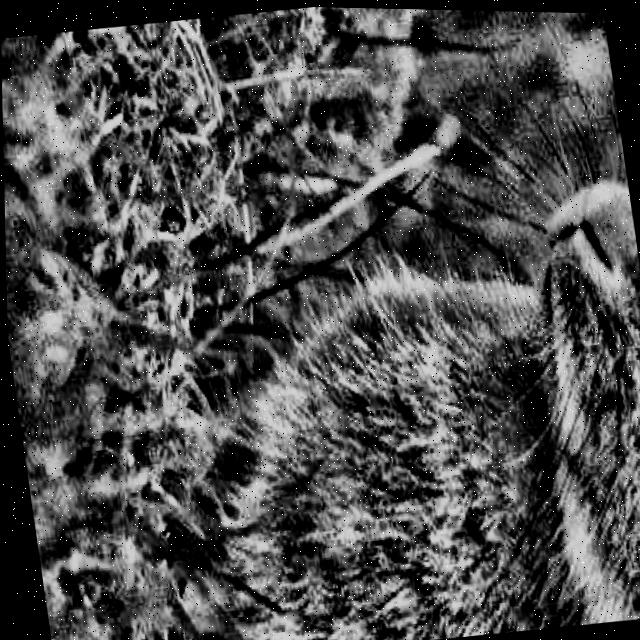rabbit: (54, 75, 640, 640)
